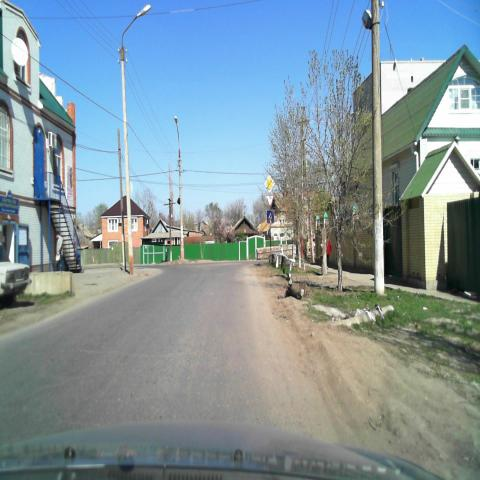2_2: (264, 174, 274, 193)
